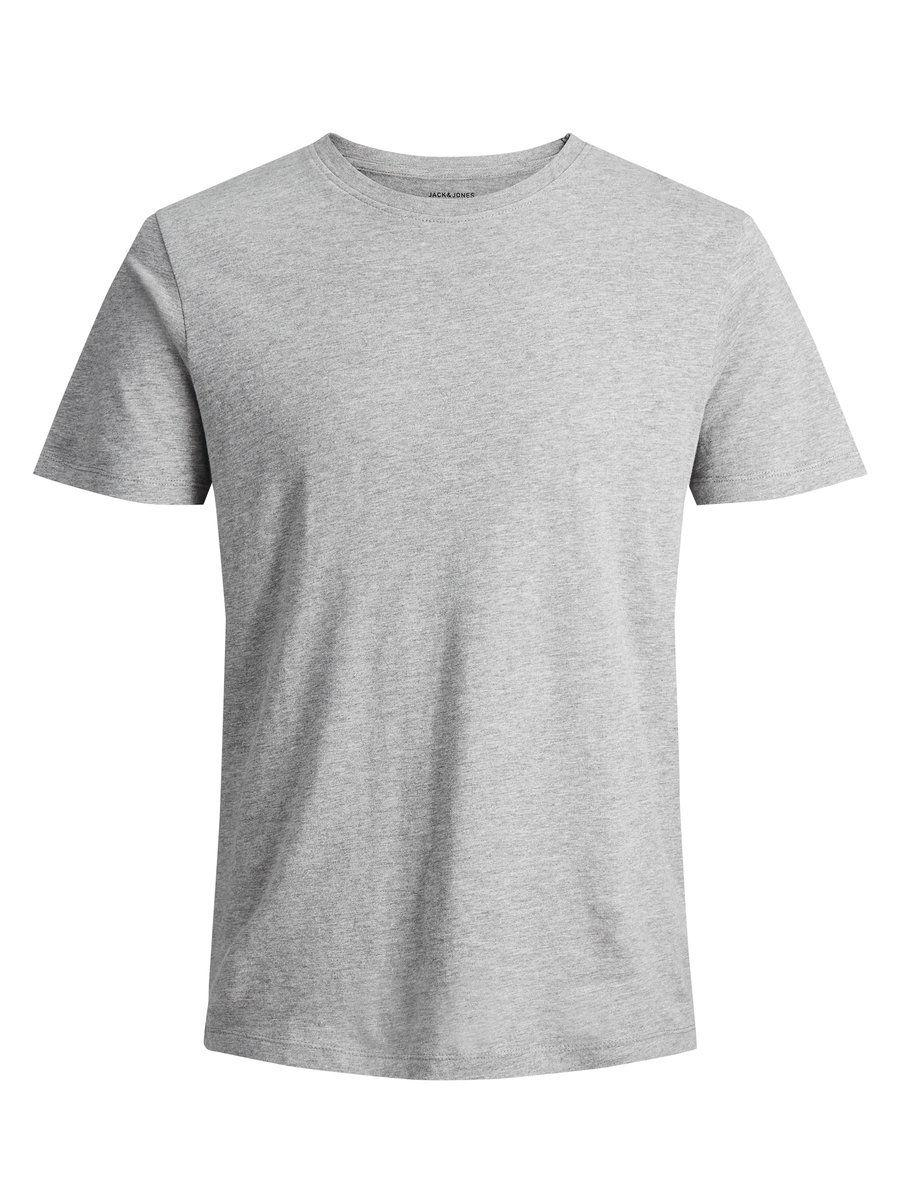teeshirt: (58, 123, 894, 1169)
